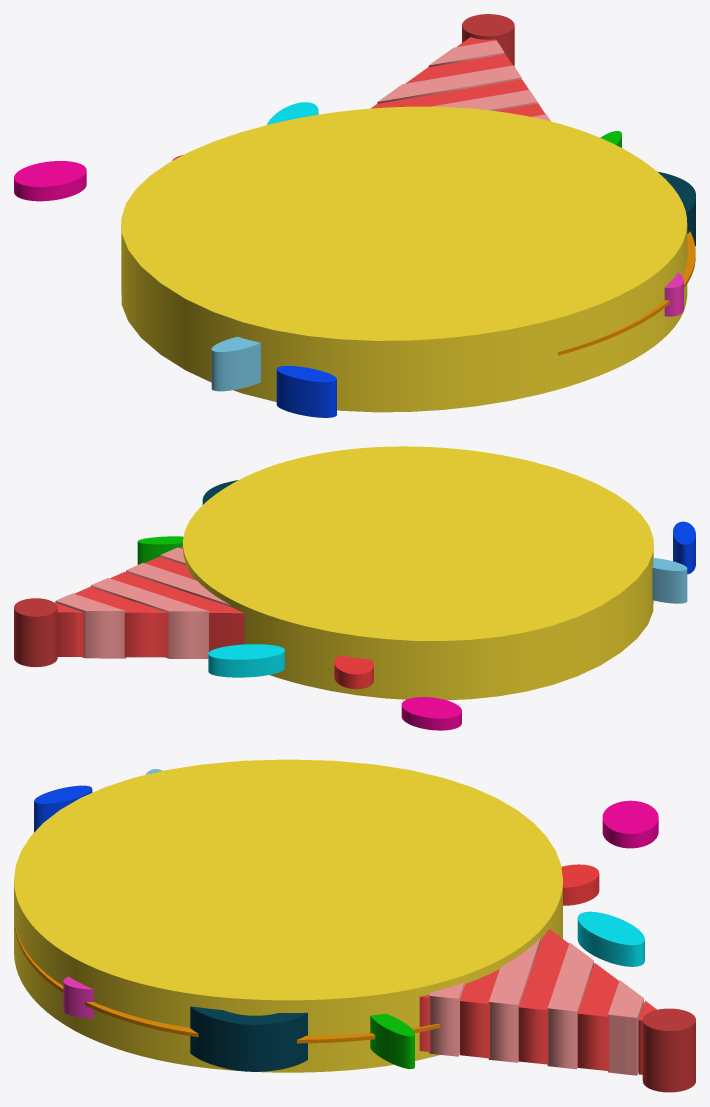
The model's file is emoji_u1f973.glb.
3 views of the same model, one above another, from view 1: azimuth 30°, elevation 25°; view 2: azimuth 150°, elevation 25°; view 3: azimuth 270°, elevation 25° (orthographic). The views are drawn at different scales.
Visible parts, largest first — view 1: emoji_u1f973; view 2: emoji_u1f973; view 3: emoji_u1f973.
Boxes of the visible parts, left/top/right/bottom form: emoji_u1f973: left=14, top=14, right=695, bottom=417; emoji_u1f973: left=14, top=446, right=695, bottom=730; emoji_u1f973: left=14, top=759, right=695, bottom=1092.
Size of the model in its own units: 0.0324 by 0.004 by 0.0342.
